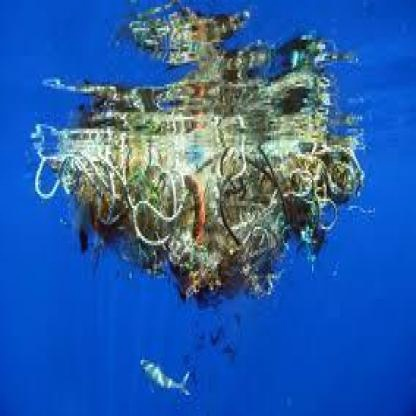net: (32, 101, 362, 285)
